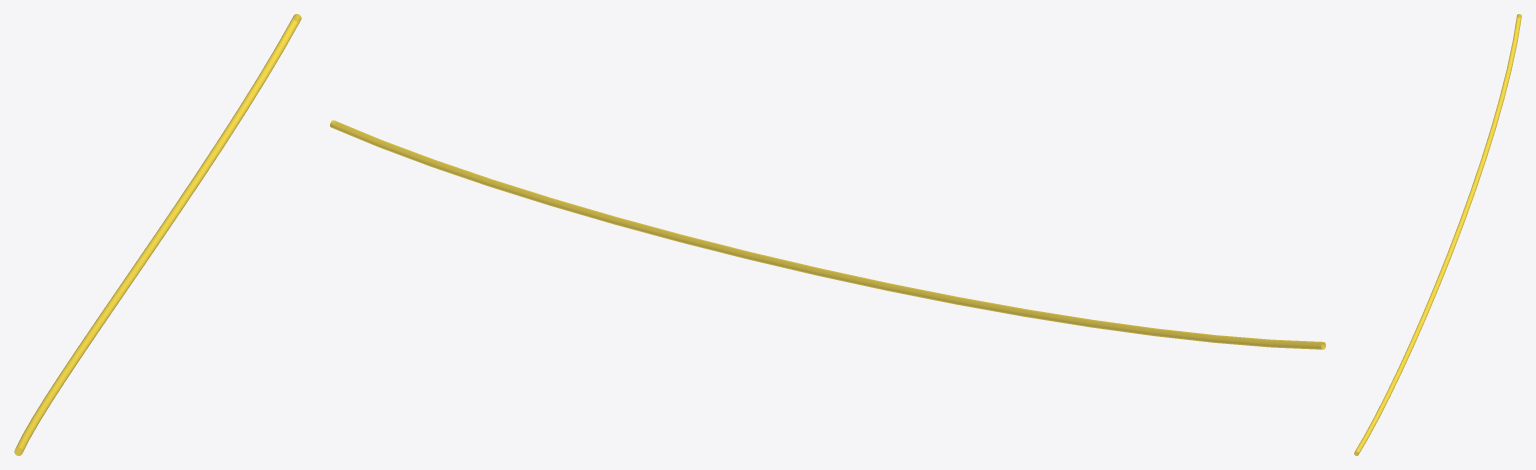
Rendered from Event_27938768_track_23.fbx.
3 views of the same model, side by side, from view 1: azimuth 90°, elevation 25°; view 2: azimuth 150°, elevation 25°; view 3: azimuth 270°, elevation 25° (orthographic). The views are drawn at different scales.
Parts seen in each view (by area): view 1: Model; view 2: Model; view 3: Model.
Part boxes in pixels (box(x1,y1,x2,y2)): Model: box(14, 14, 301, 455); Model: box(330, 120, 1325, 349); Model: box(1354, 14, 1521, 455).
Size of the model in its own units: 6.52 by 0.8509 by 1.34.
